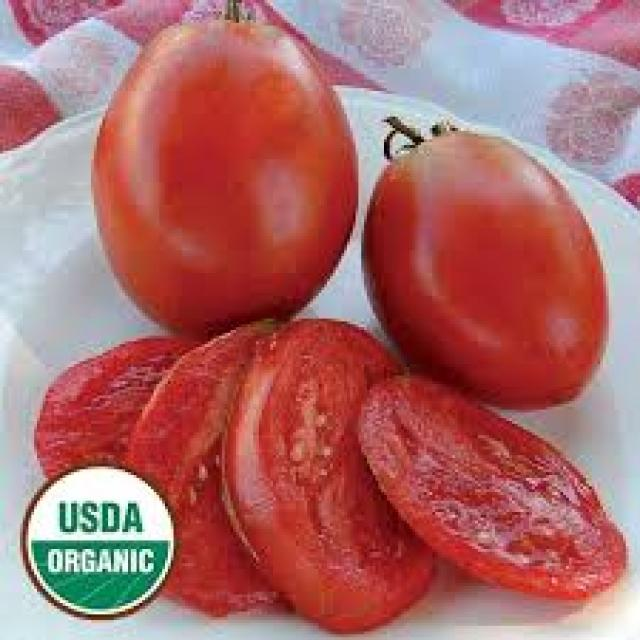Fresh_tomato: (107, 326, 611, 624), (379, 101, 605, 390), (131, 11, 323, 315)
